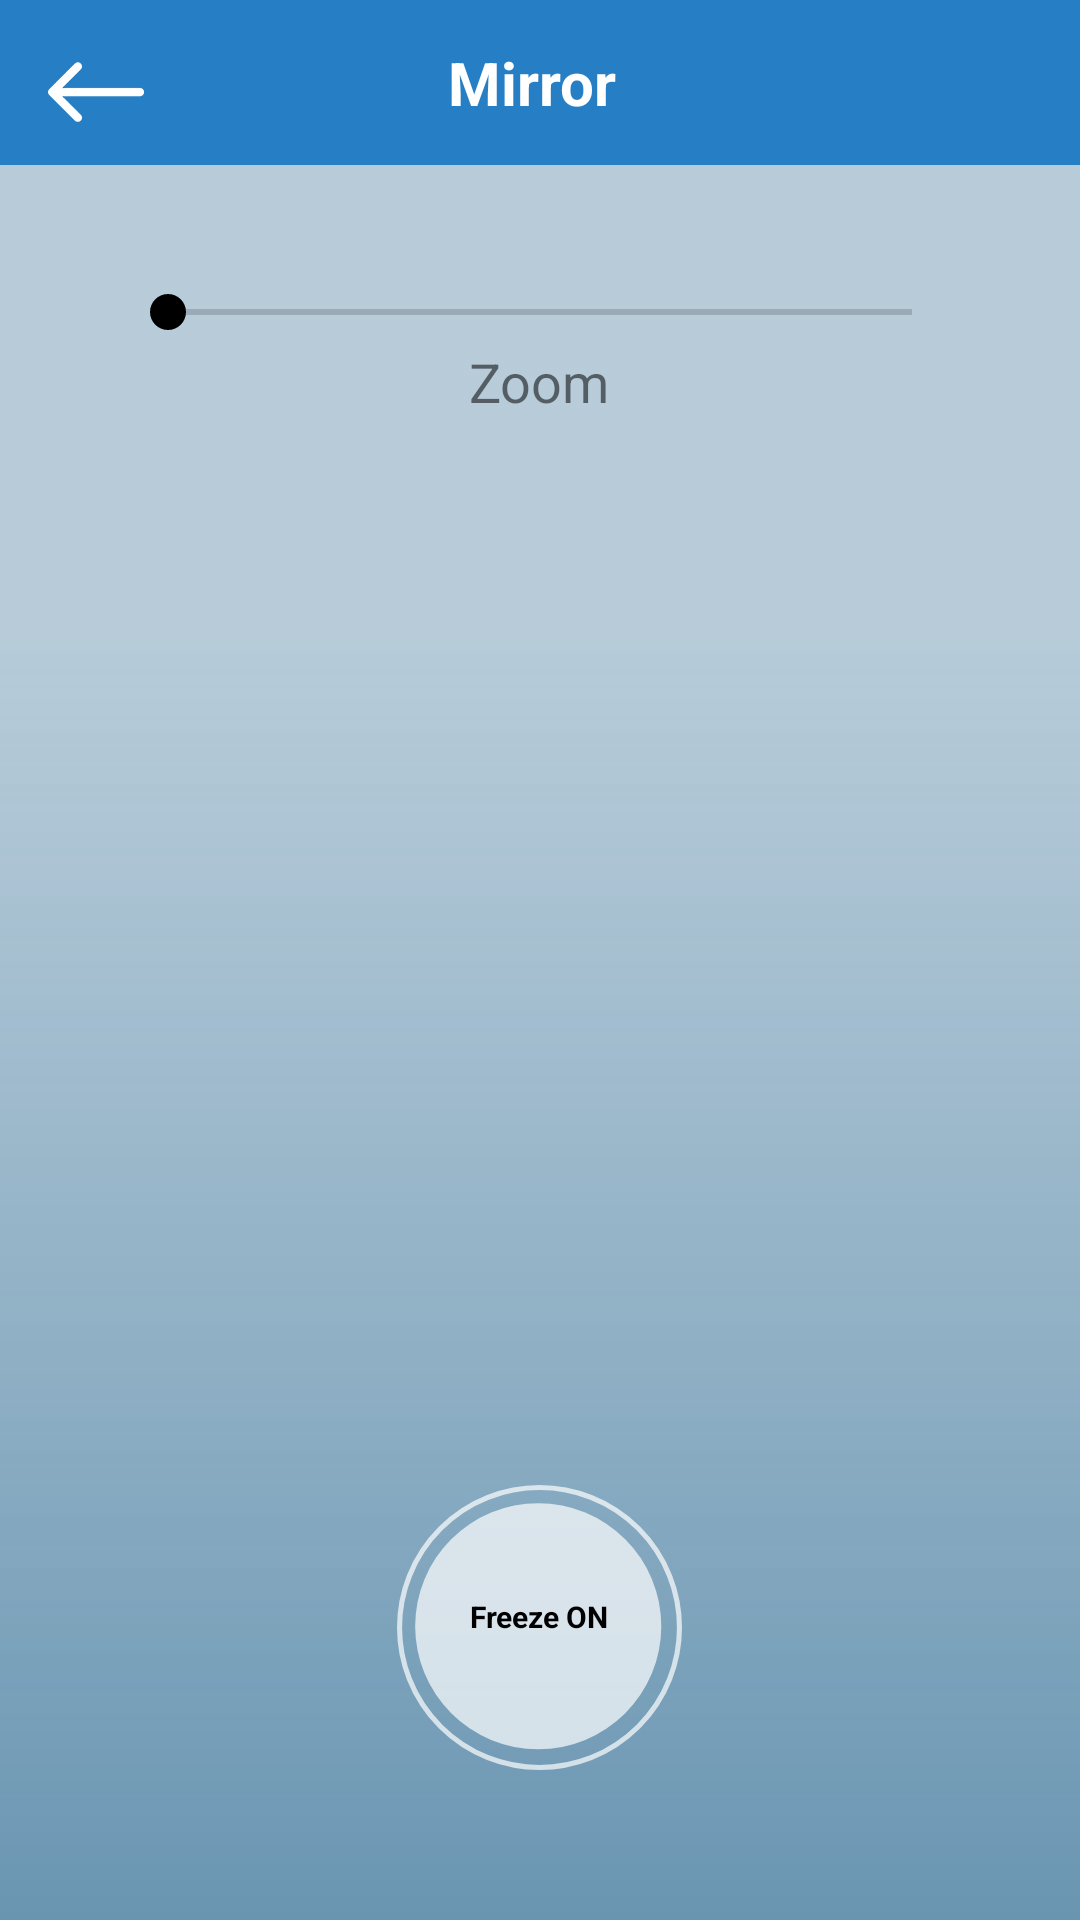

Point at icon controls on the screen. Image size 1080w x 1920h, points as [x,y].
left arrow: [96,92]
